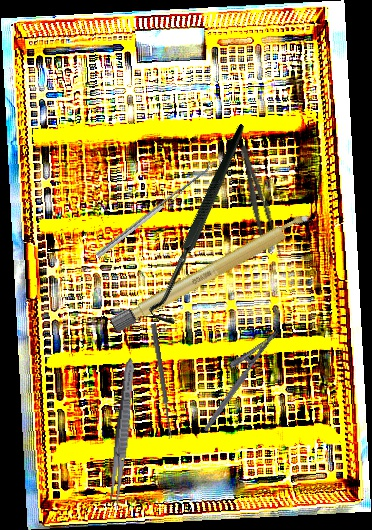Dressing Forceps: (232, 142, 285, 262), (107, 356, 138, 511)
Hook Surgical: (93, 123, 313, 331)
Needle Holder: (189, 318, 281, 433)
Scalpel Handle: (109, 209, 315, 334)
Spatula Surgical: (92, 158, 215, 259)
Surgical Spoon: (149, 323, 175, 439)
